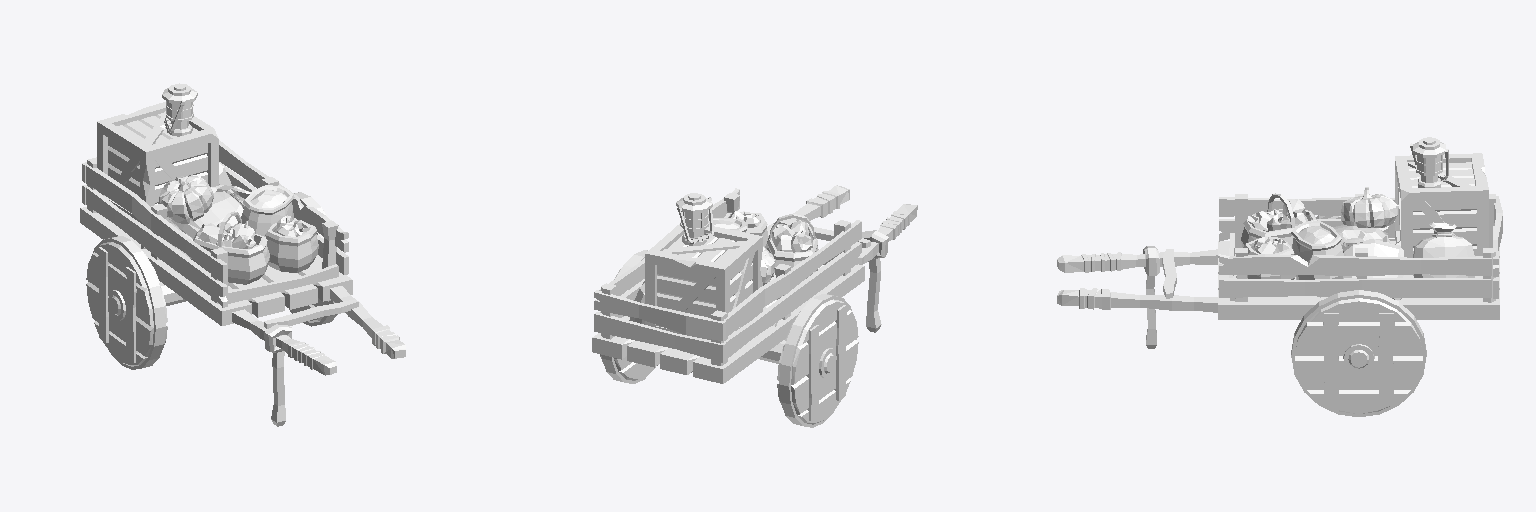
File: cart.obj
The picture shows the model from 3 angles: view 1: azimuth 30°, elevation 25°; view 2: azimuth 150°, elevation 25°; view 3: azimuth 270°, elevation 25°; orthographic projection.
Visible parts, largest first — view 1: SM_Prop_Cart_02_Mesh; view 2: SM_Prop_Cart_02_Mesh; view 3: SM_Prop_Cart_02_Mesh.
Boxes of the visible parts, <box> form: SM_Prop_Cart_02_Mesh: <box>80,83,405,426</box>; SM_Prop_Cart_02_Mesh: <box>592,185,917,427</box>; SM_Prop_Cart_02_Mesh: <box>1057,137,1502,416</box>.
Bounding box in the file's own units: 3.07 × 3.31 × 5.79.